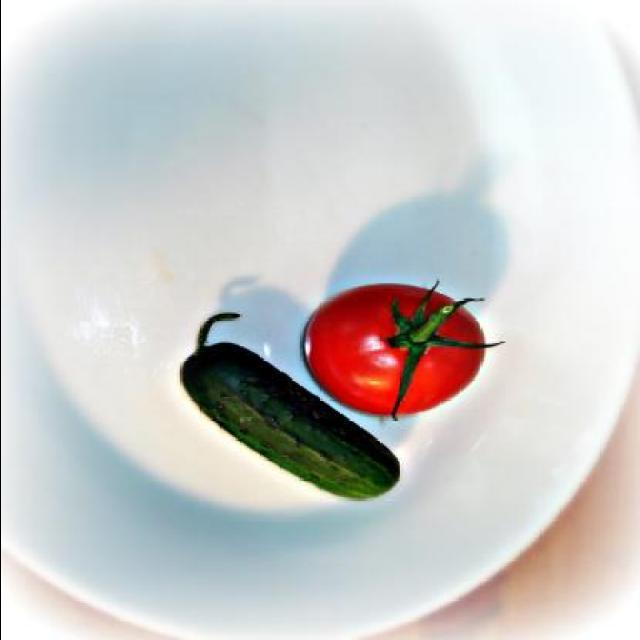Cucumber: (177, 310, 401, 502)
